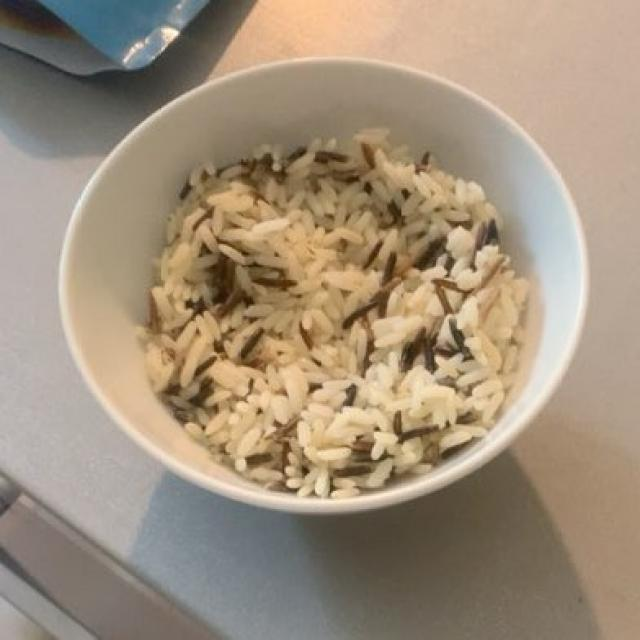rice-wild: (148, 138, 525, 494)
